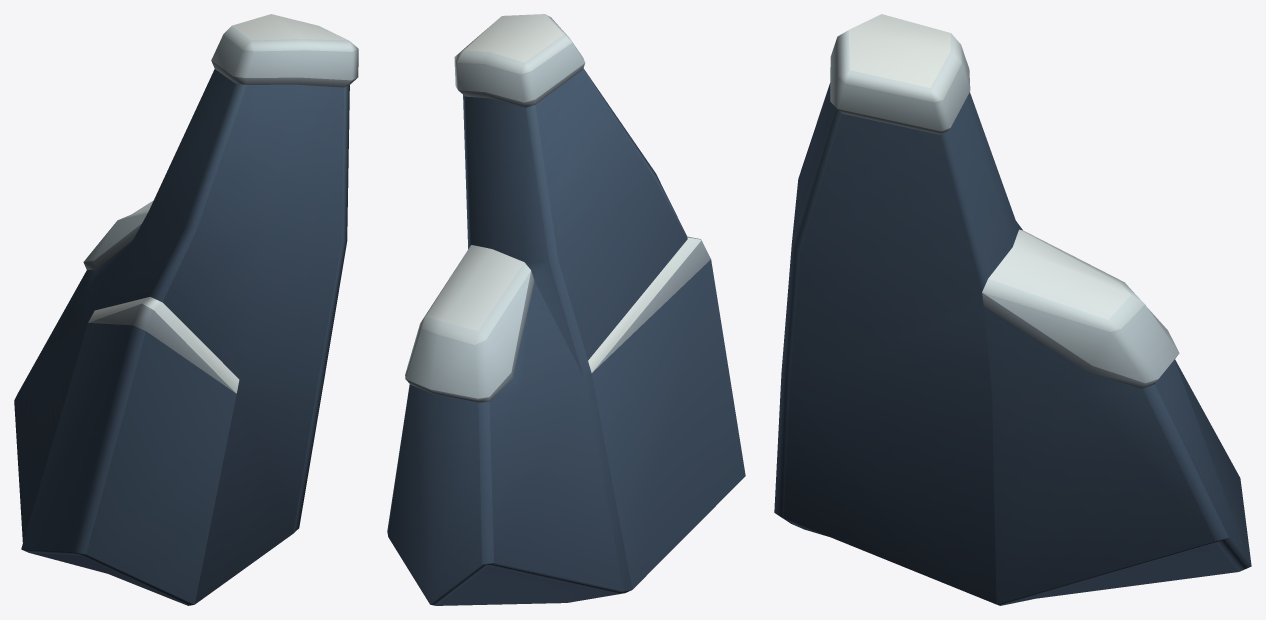
Rendered from rock_snow_027.fbx.
The picture shows the model from 3 angles, left to right: view 1: azimuth 30°, elevation 25°; view 2: azimuth 150°, elevation 25°; view 3: azimuth 270°, elevation 25°; orthographic projection. The views are drawn at different scales.
Visible parts, largest first — view 1: rock_snow_027; view 2: rock_snow_027; view 3: rock_snow_027.
Part boxes in pixels (box(x1,y1,x2,y2)): rock_snow_027: box(14, 14, 358, 605); rock_snow_027: box(387, 14, 745, 605); rock_snow_027: box(774, 14, 1251, 605).
Size of the model in its own units: 383 by 720 by 496.
Materials: 1 (1 with a texture image).
